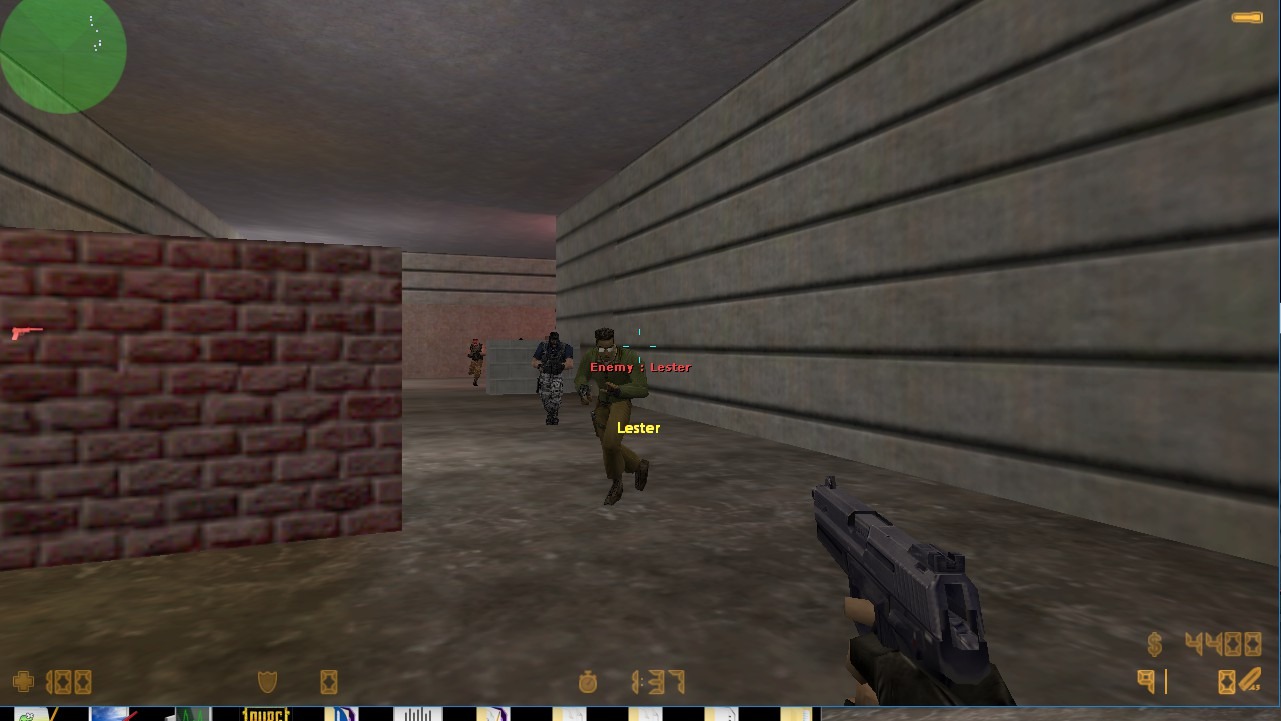person: (532, 329, 578, 432), (464, 333, 491, 391)
